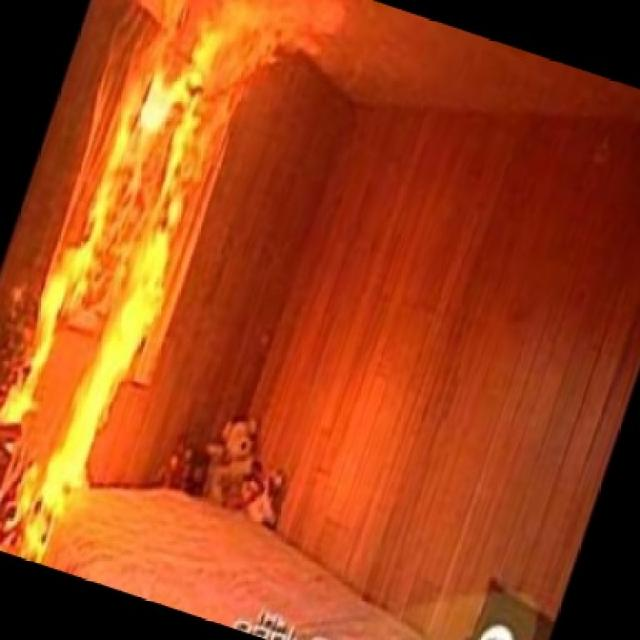fire: (0, 0, 338, 577)
